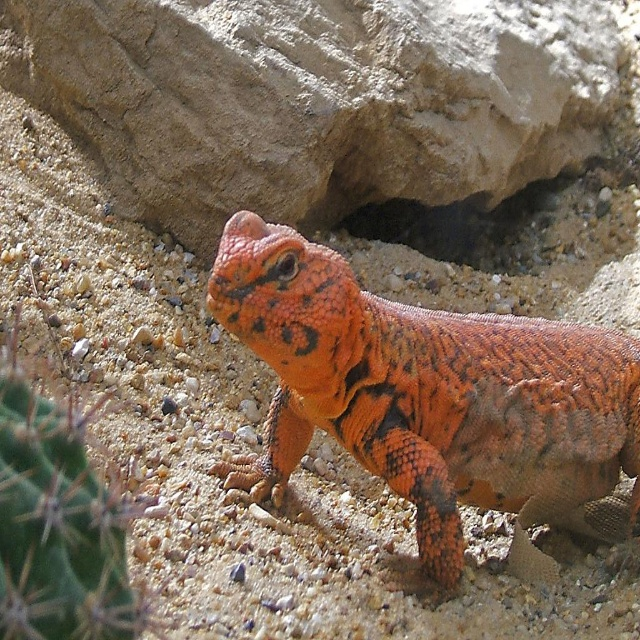Lizard: (208, 212, 636, 610)
